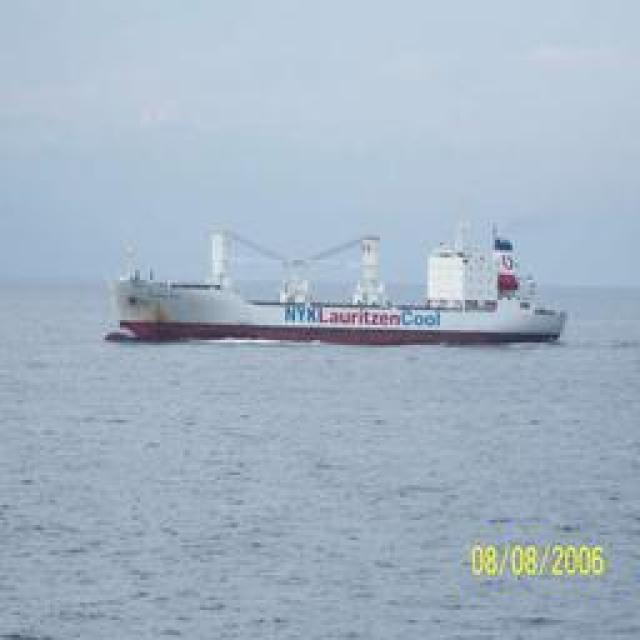ship2: (103, 216, 568, 350)
